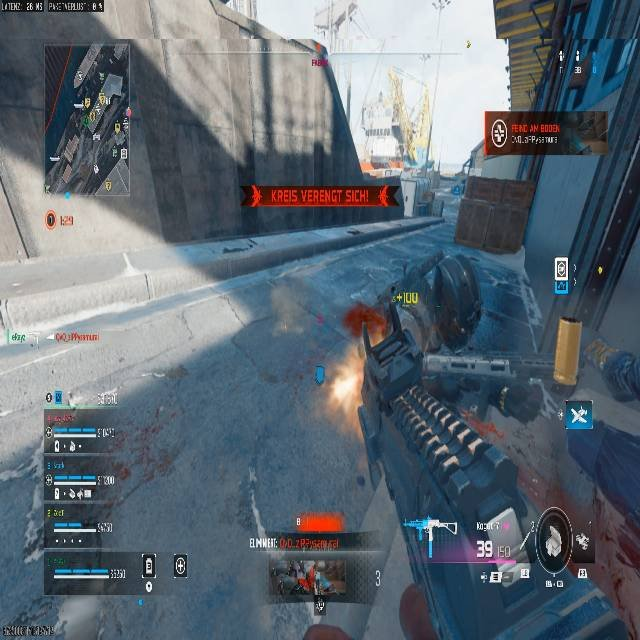head: (301, 624, 354, 639), (400, 316, 420, 352)
